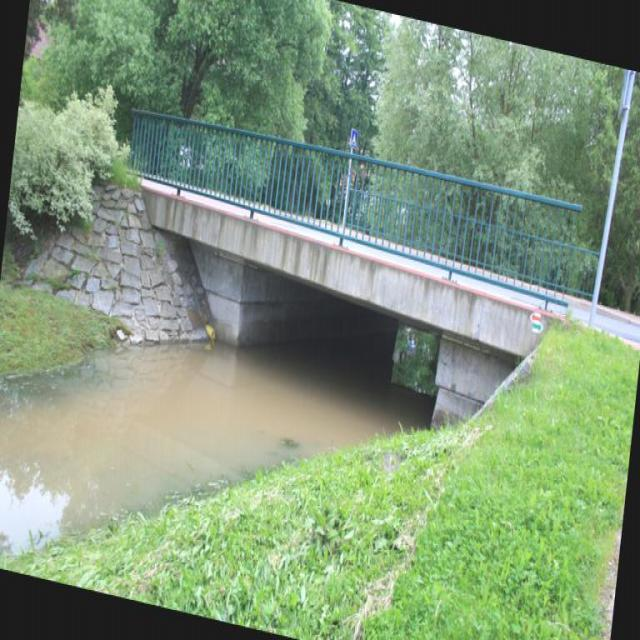flood: (0, 254, 431, 633)
